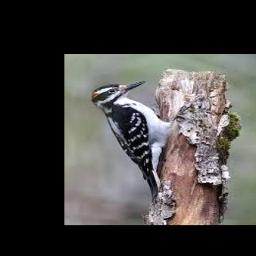Woodpecker: (92, 80, 173, 201)
